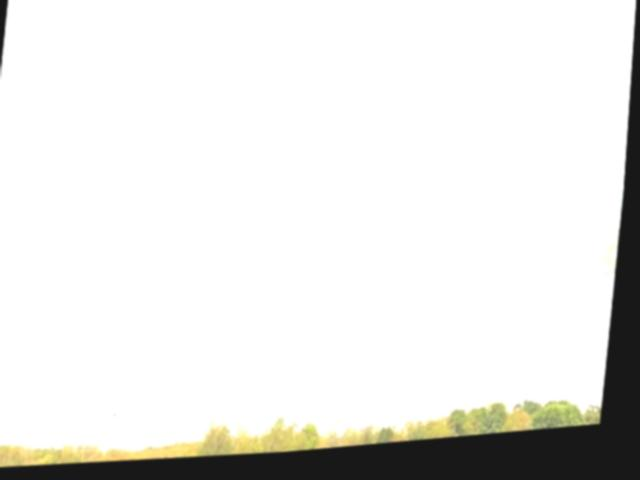iha: (256, 312, 278, 326)
